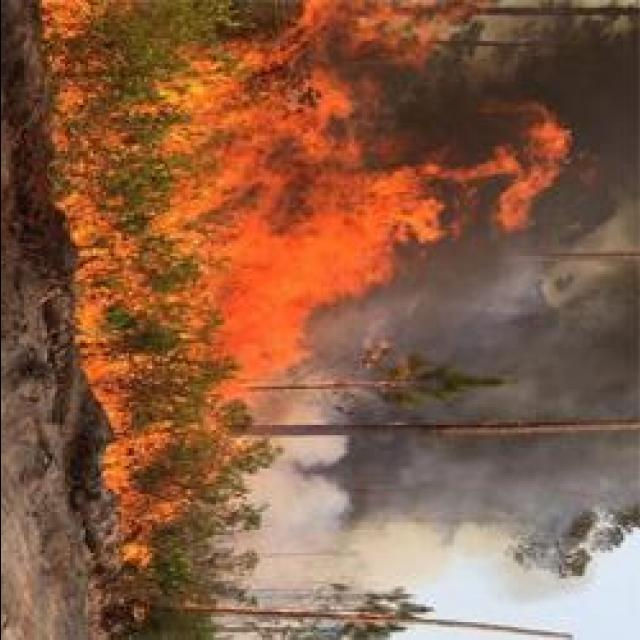fire: (349, 170, 429, 232), (250, 250, 324, 308), (316, 222, 370, 290), (176, 64, 236, 122), (244, 307, 295, 372), (232, 210, 272, 254), (320, 91, 346, 117)
smoke: (494, 291, 638, 418), (449, 432, 640, 509), (584, 28, 638, 215), (436, 248, 540, 332), (352, 468, 470, 540), (482, 26, 601, 94), (403, 64, 475, 132), (394, 270, 450, 342), (274, 479, 340, 515), (288, 437, 346, 469)
